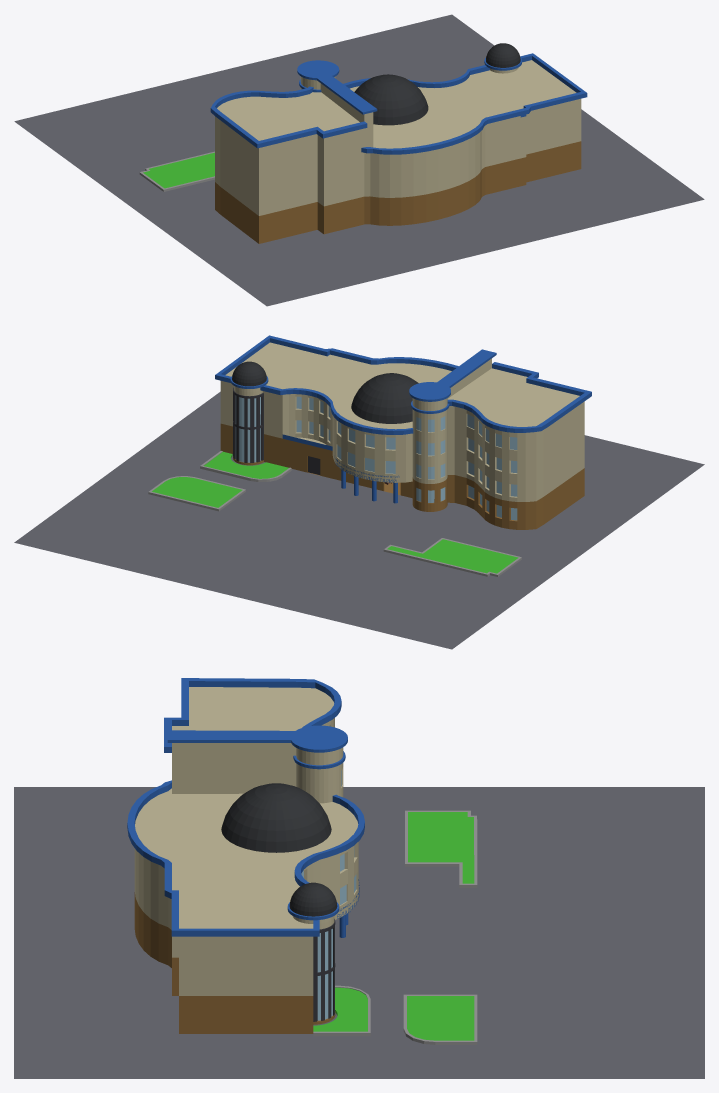
Rendered from Planetarium_Vladimir3.glb.
The picture shows the model from 3 angles, top to bottom: view 1: azimuth 30°, elevation 25°; view 2: azimuth 150°, elevation 25°; view 3: azimuth 270°, elevation 25°; orthographic projection. The views are drawn at different scales.
Parts seen in each view (by area): view 1: Плоскость, Building, grass; view 2: Плоскость, Building, grass, Куб, Куб.001; view 3: Плоскость, Building, grass, Куб, Куб.001.
Part boxes in pixels (x1=…): Плоскость: x1=14, y1=14, x2=704, y2=306; Building: x1=210, y1=43, x2=587, y2=243; grass: x1=139, y1=151, x2=214, y2=191; Плоскость: x1=14, y1=391, x2=704, y2=649; Building: x1=215, y1=335, x2=591, y2=529; grass: x1=383, y1=538, x2=521, y2=576; Куб: x1=148, y1=476, x2=245, y2=511; Куб.001: x1=200, y1=451, x2=291, y2=482; Плоскость: x1=14, y1=787, x2=704, y2=1078; Building: x1=127, y1=678, x2=364, y2=1033; grass: x1=405, y1=810, x2=477, y2=887; Куб: x1=403, y1=994, x2=477, y2=1044; Куб.001: x1=313, y1=985, x2=370, y2=1036.
Bounding box in the file's own units: 107 × 26.92 × 107.
